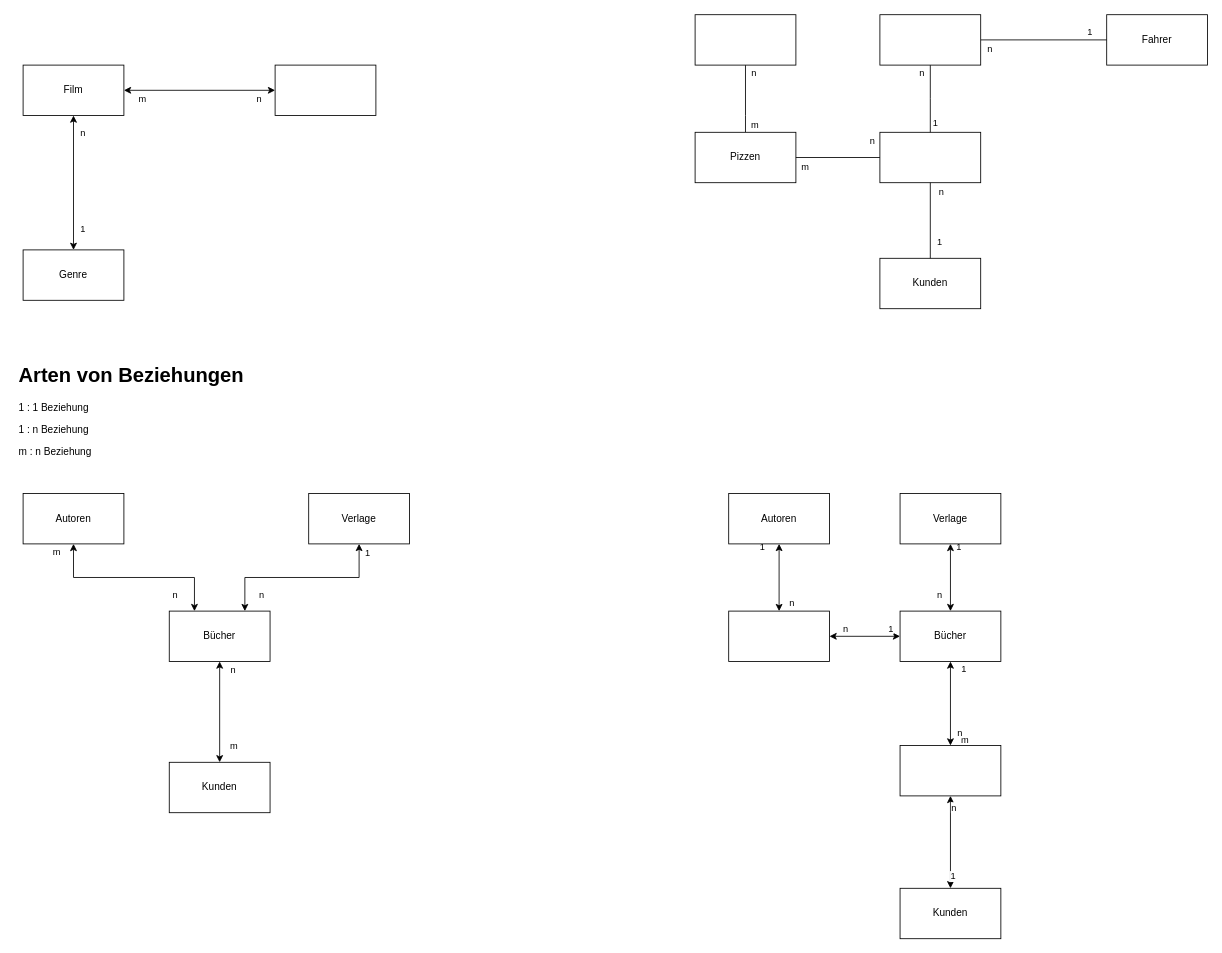
Image size: 1222x953. Some labels were removed from this diagram. Here are the shapes that lost their labels. From the top down, the centre of each, then its label:
the point at 745,39: Zutaten
the point at 930,39: Touren
the point at 325,90: Schauspieler
the point at 930,157: Bestellungen
the point at 779,636: Buch_Autor
the point at 950,770: Ausleihe
